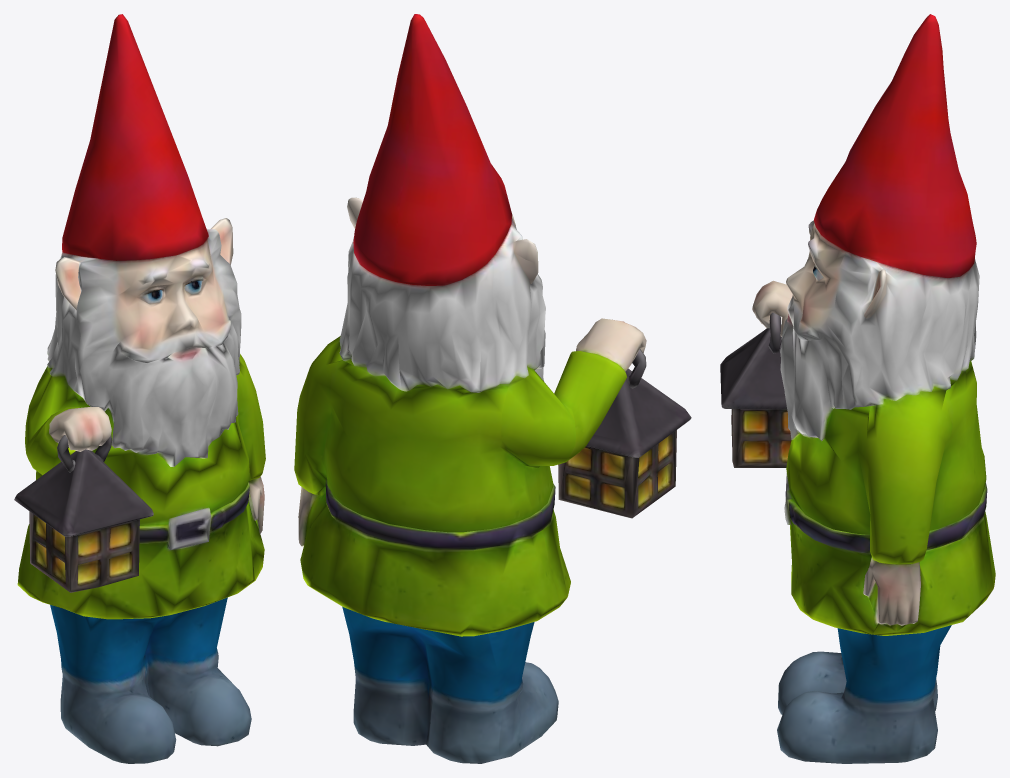
The model's file is garden_gnome.glb.
3 renders of one model, left to right at view 1: azimuth 30°, elevation 25°; view 2: azimuth 150°, elevation 25°; view 3: azimuth 270°, elevation 25°, orthographic. The views are drawn at different scales.
Visible parts, largest first — view 1: garden_gnome; view 2: garden_gnome; view 3: garden_gnome.
Boxes of the visible parts, box(x1,y1,x2,y2) form: garden_gnome: box(14, 14, 265, 763); garden_gnome: box(294, 14, 691, 763); garden_gnome: box(720, 14, 995, 763).
Bounding box in the file's own units: 0.2569 × 0.5985 × 0.2097.
Materials: 1 (1 with a texture image).
